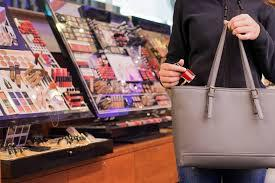shoplifting: (120, 45, 275, 183)
